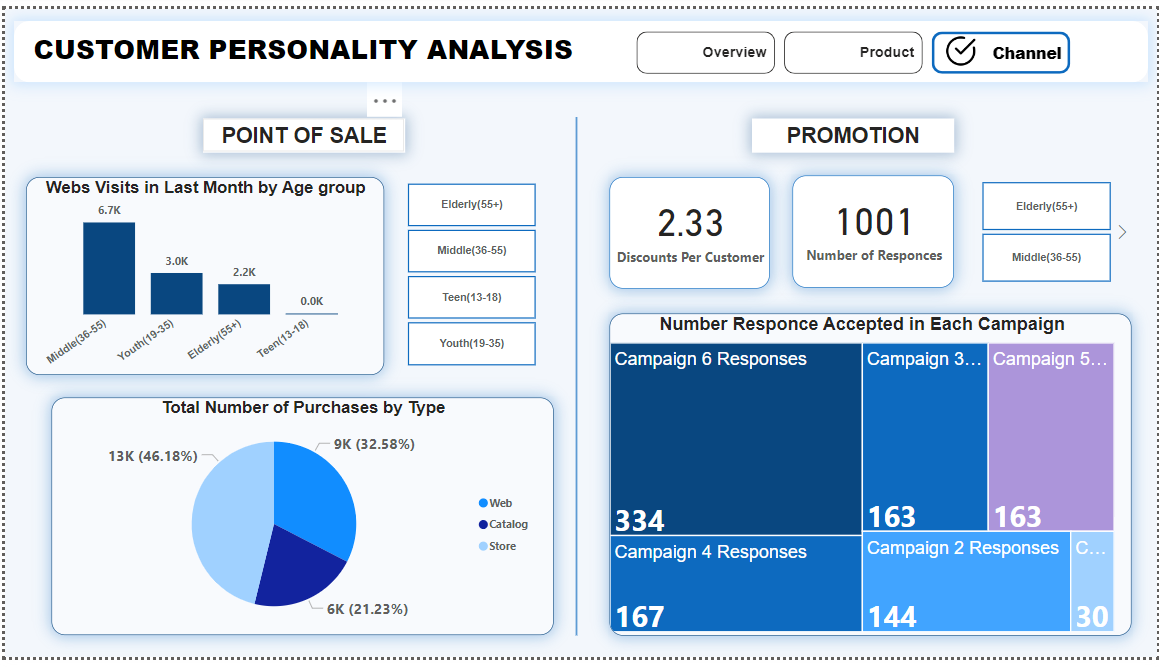

This screenshot's page, from the dashboard's own definition file:
{"tool":"powerbi","page":{"name":"Channel","canvas":[1280,720],"ordinal":2},"visuals":[{"type":"textbox","box":[219.2,120.9,224.9,37.8],"z":0},{"type":"textbox","box":[829.6,120.9,224.9,37.8],"z":1000},{"type":"card","fields":{"Values":["Task-3-Excel Data Set.Number of Discount Per Customer"]},"box":[672,186,178,124],"z":2000},{"type":"treemap","title":"Number Responce Accepted in Each Campaign","fields":{"Values":["Sum(Task-3-Excel Data Set.Campaign 6 responses)","Sum(Task-3-Excel Data Set.Campaign 2 responses)","Sum(Task-3-Excel Data Set.Campaign 1 responses)","Sum(Task-3-Excel Data Set.Campaign 3 responses)","Sum(Task-3-Excel Data Set.Campaign 4 responses)","Sum(Task-3-Excel Data Set.Campaign 5 responses)"]},"box":[672,338,580,358],"z":3000},{"type":"slicer","fields":{"Values":["Task-3-Excel Data Set.Age (groups)"]},"box":[1060.2,185.2,192.8,124.7],"z":4000},{"type":"card","fields":{"Values":["Task-3-Excel Data Set.Number of Responces"]},"box":[875,185.2,179.5,124.7],"z":5000},{"type":"shape","box":[630,120,10,576],"z":6000},{"type":"slicer","fields":{"Values":["Task-3-Excel Data Set.Age (groups)"]},"box":[422,186,192,216],"z":7000},{"type":"columnChart","title":"Webs Visits in Last Month by Age group","fields":{"Y":["Sum(Task-3-Excel Data Set.Num_Web_Visits_LastMonth)"],"Category":["Task-3-Excel Data Set.Age (groups)"]},"box":[24,186,398,220],"z":8000},{"type":"pieChart","title":"Total Number of Purchases by Type","fields":{"Y":["Sum(Task-3-Excel Data Set.Num_Web_Purchases)","Sum(Task-3-Excel Data Set.Num_Catalog_Purchases)","Sum(Task-3-Excel Data Set.Num_Store_Purchases)"]},"box":[52,432,558,264],"z":9000},{"type":"shape","box":[10,14,1260,68],"z":10000},{"type":"textbox","title":"CUSTOMER PERSONALITY ANALYSIS","box":[26,24,614,48],"z":11000},{"type":"pageNavigator","box":[701.1,24.6,483.8,47.2],"z":12000},{"type":"image","box":[1036,14,50,66],"z":13000}]}

Visuals, with their boxes in screenshot pixels (x1, y1, x2, y2), scaled from the page's 1280x720 canvas onto the 1159x667 screenshot:
textbox: pyautogui.locateOnScreen(198, 112, 402, 147)
textbox: pyautogui.locateOnScreen(751, 112, 955, 147)
card - Task-3-Excel Data Set.Number of Discount Per Customer: pyautogui.locateOnScreen(608, 172, 770, 287)
"Number Responce Accepted in Each Campaign" treemap: pyautogui.locateOnScreen(608, 313, 1134, 645)
slicer - Task-3-Excel Data Set.Age (groups): pyautogui.locateOnScreen(960, 172, 1135, 287)
card - Task-3-Excel Data Set.Number of Responces: pyautogui.locateOnScreen(792, 172, 955, 287)
shape: pyautogui.locateOnScreen(570, 111, 580, 645)
slicer - Task-3-Excel Data Set.Age (groups): pyautogui.locateOnScreen(382, 172, 556, 372)
"Webs Visits in Last Month by Age group" columnChart: pyautogui.locateOnScreen(22, 172, 382, 376)
"Total Number of Purchases by Type" pieChart: pyautogui.locateOnScreen(47, 400, 552, 645)
shape: pyautogui.locateOnScreen(9, 13, 1150, 76)
"CUSTOMER PERSONALITY ANALYSIS" textbox: pyautogui.locateOnScreen(24, 22, 580, 67)
pageNavigator: pyautogui.locateOnScreen(635, 23, 1073, 67)
image: pyautogui.locateOnScreen(938, 13, 983, 74)
